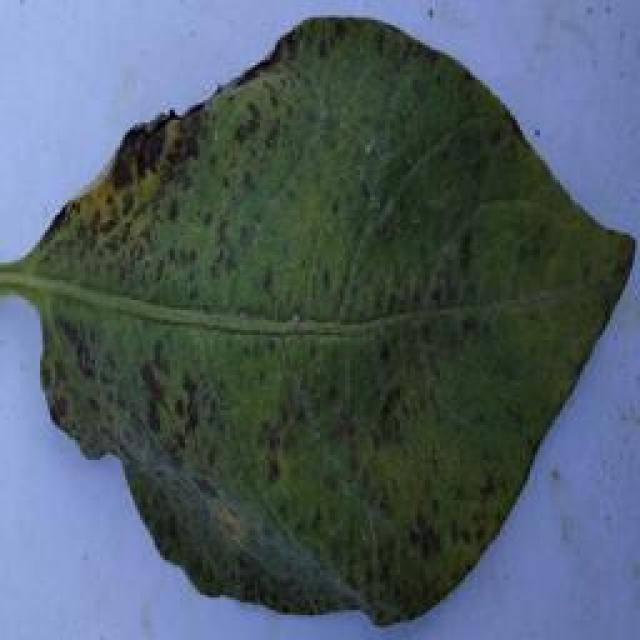Potato_Early_Blight: (19, 14, 640, 640)
